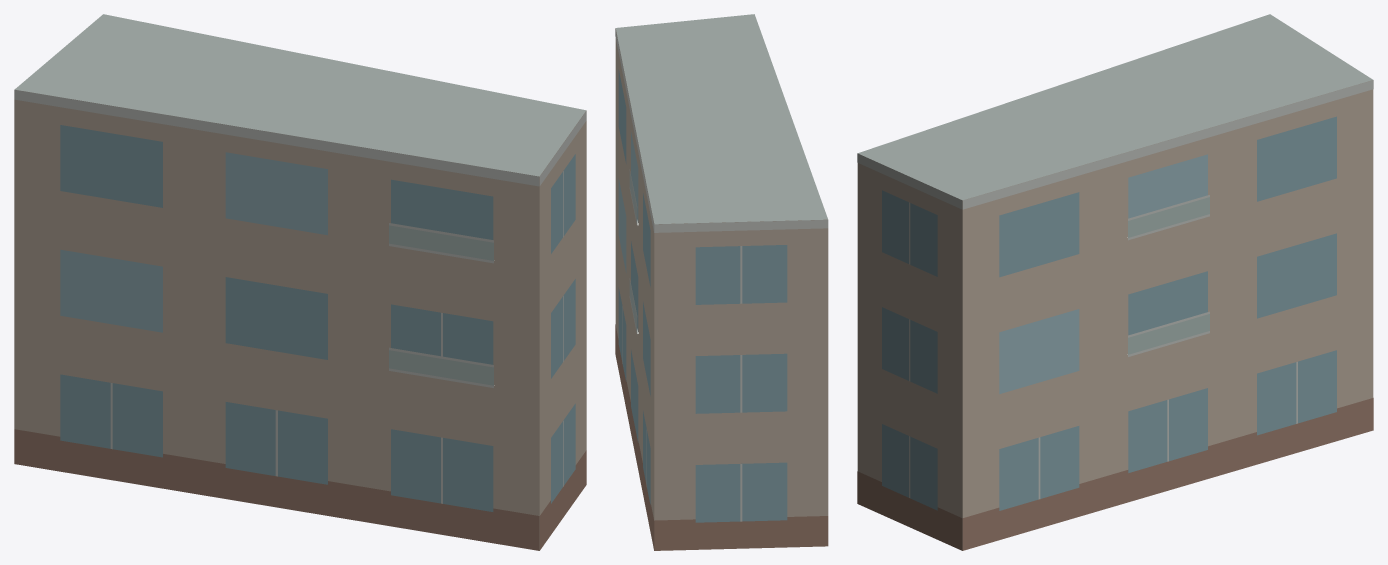
The model's file is survey-upis-32588554.glb.
3 renders of one model, left to right at view 1: azimuth 30°, elevation 25°; view 2: azimuth 150°, elevation 25°; view 3: azimuth 270°, elevation 25°, orthographic. The views are drawn at different scales.
Visible parts, largest first — view 1: survey-upis-32588554.tmp; view 2: survey-upis-32588554.tmp; view 3: survey-upis-32588554.tmp.
Boxes of the visible parts, <box> form: survey-upis-32588554.tmp: <box>14,14,586,550</box>; survey-upis-32588554.tmp: <box>615,14,828,550</box>; survey-upis-32588554.tmp: <box>857,14,1373,550</box>.
Size of the model in its own units: 10.44 by 9.15 by 12.22.
